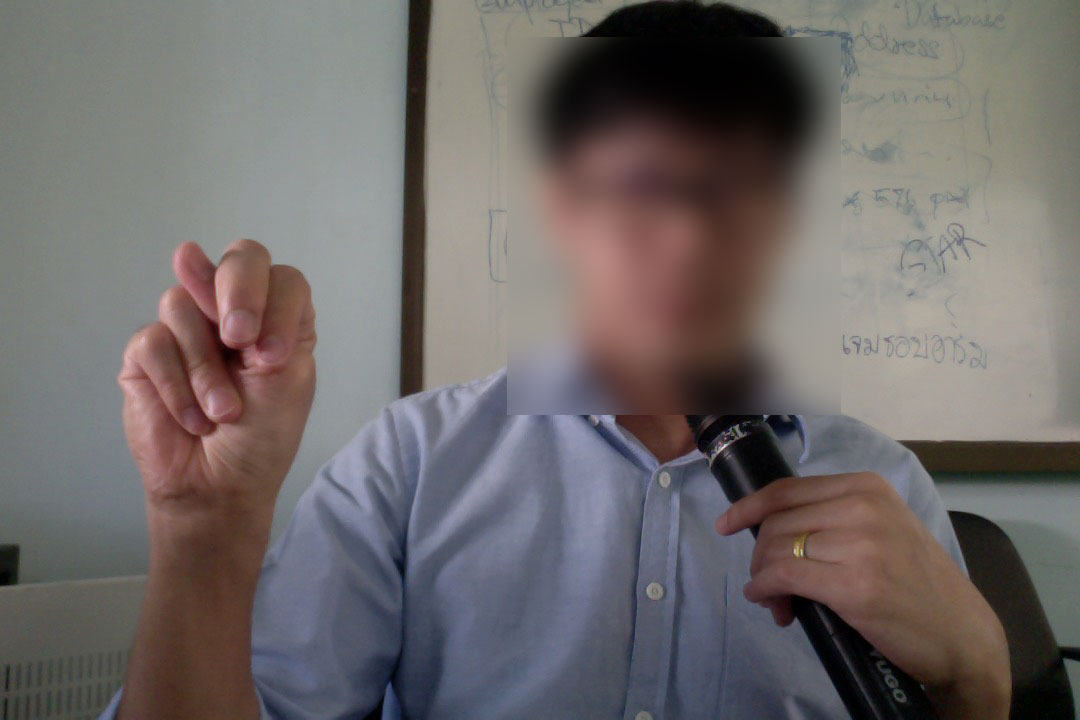nor: (111, 235, 324, 534)
